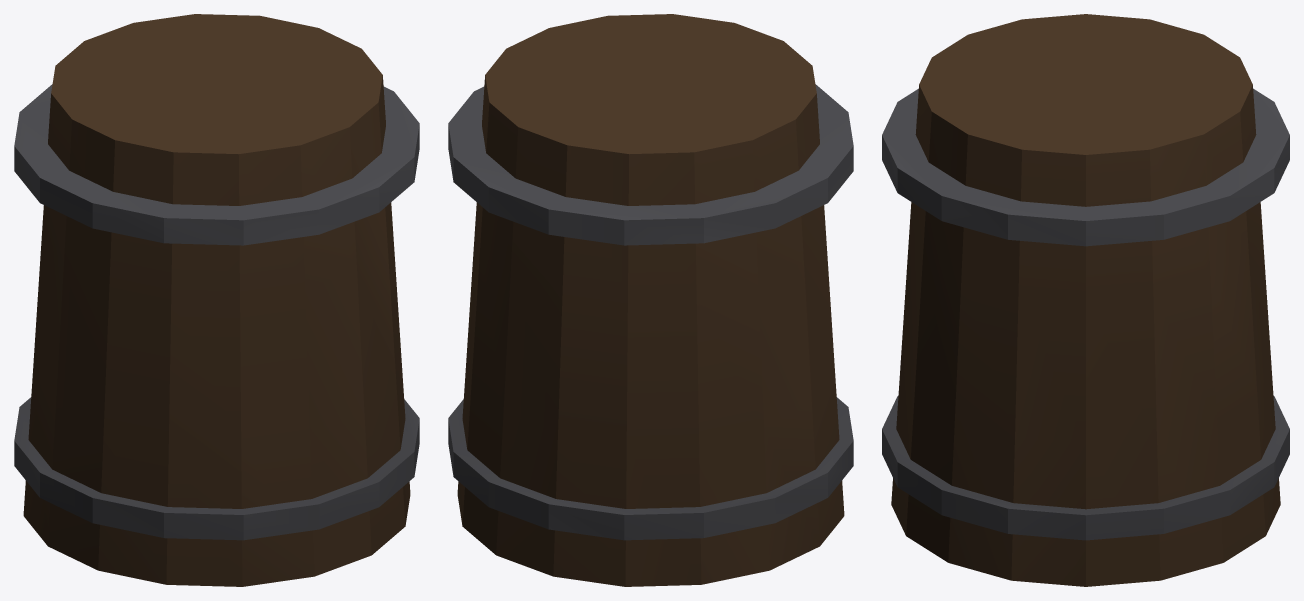
Rendered from barrel.glb.
The picture shows the model from 3 angles, left to right: view 1: azimuth 30°, elevation 25°; view 2: azimuth 150°, elevation 25°; view 3: azimuth 270°, elevation 25°; orthographic projection.
Parts seen in each view (by area): view 1: barrel; view 2: barrel; view 3: barrel.
Part boxes in pixels (left/top/right/bottom): barrel: left=14, top=14, right=419, bottom=586; barrel: left=448, top=14, right=853, bottom=586; barrel: left=882, top=14, right=1289, bottom=586.
Bounding box in the file's own units: 0.88 × 1 × 0.88.
